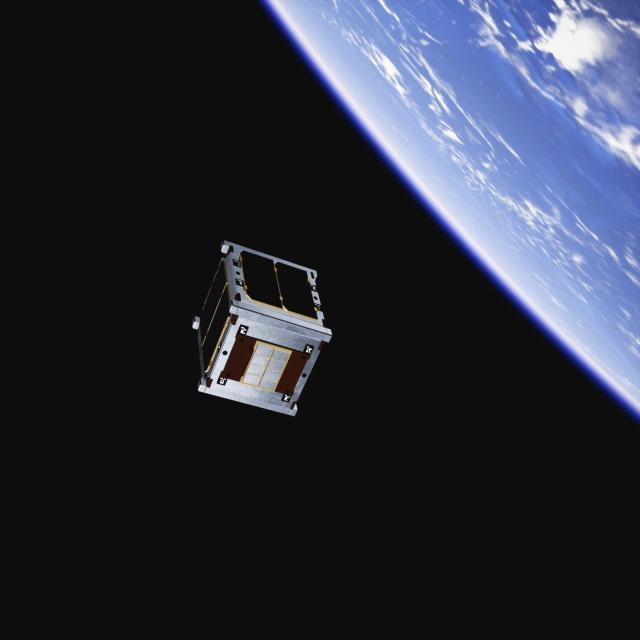medium_debris: (178, 232, 331, 429)
